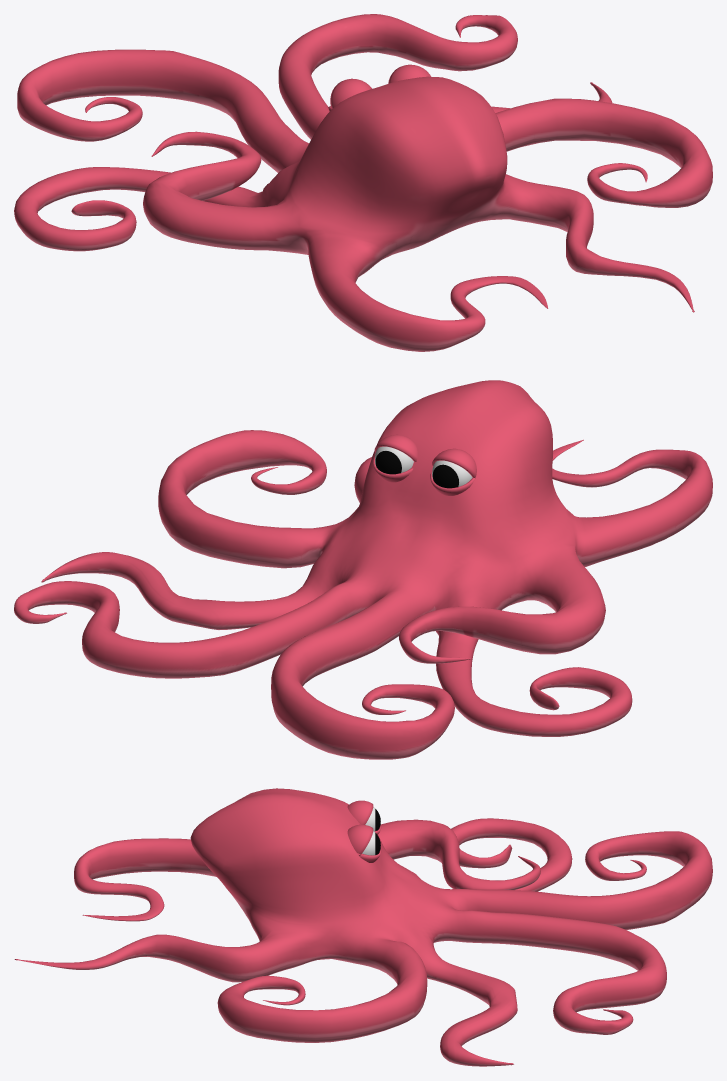
File: octopus.glb
3 renders of one model, top to bottom at view 1: azimuth 30°, elevation 25°; view 2: azimuth 150°, elevation 25°; view 3: azimuth 270°, elevation 25°, orthographic. The views are drawn at different scales.
Visible parts, largest first — view 1: Octopus; view 2: Octopus; view 3: Octopus.
Part boxes in pixels (x1,y1,x2,y2): Octopus: (14, 14, 712, 351); Octopus: (14, 380, 712, 759); Octopus: (14, 788, 712, 1066).
Size of the model in its own units: 3.58 by 1.06 by 4.4.
Materials: 3 (1 with a texture image).
